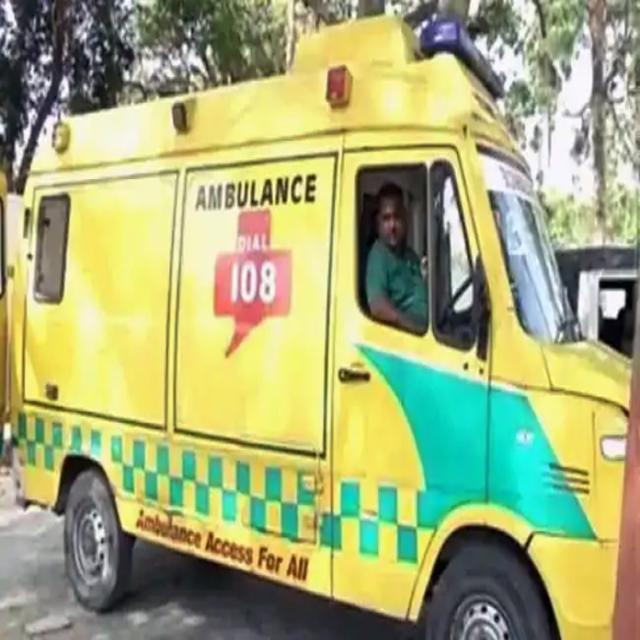ambulance: (24, 93, 639, 640)
